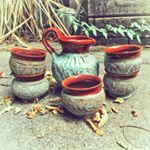cups: (60, 74, 109, 118)
